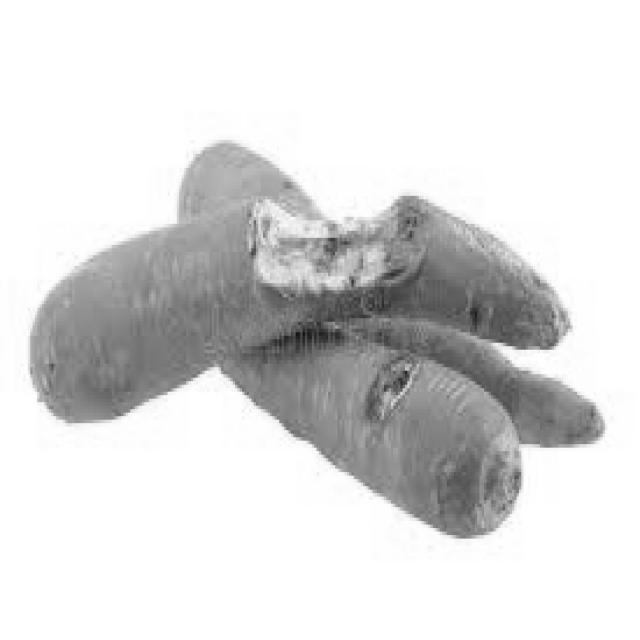Stale_Carrot: (33, 196, 567, 418), (230, 309, 607, 522)
